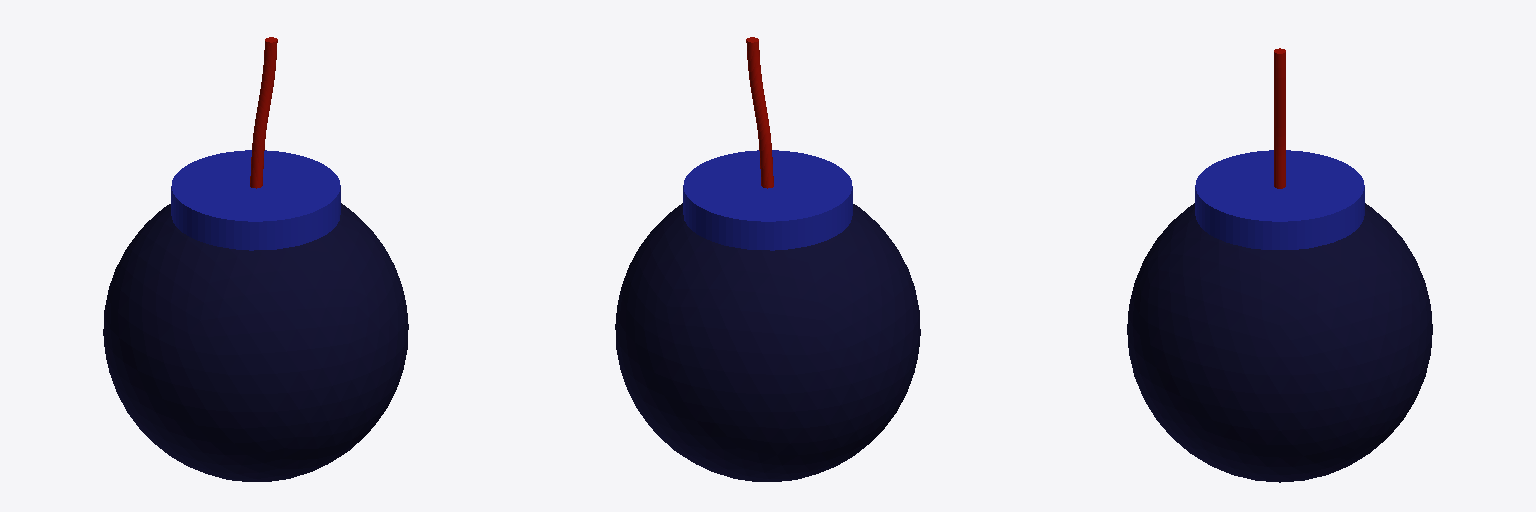
File: Bomb.obj
3 renders of one model, left to right at view 1: azimuth 30°, elevation 25°; view 2: azimuth 150°, elevation 25°; view 3: azimuth 270°, elevation 25°, orthographic.
Visible parts, largest first — view 1: Icosphere_Icosphere.003, Cylinder, Cylinder.001; view 2: Icosphere_Icosphere.003, Cylinder, Cylinder.001; view 3: Icosphere_Icosphere.003, Cylinder, Cylinder.001.
Boxes of the visible parts, box(x1,y1,x2,y2) form: Icosphere_Icosphere.003: box(103, 203, 408, 481); Cylinder: box(171, 150, 340, 250); Cylinder.001: box(250, 37, 277, 188); Icosphere_Icosphere.003: box(615, 203, 920, 481); Cylinder: box(683, 150, 852, 250); Cylinder.001: box(746, 37, 773, 188); Icosphere_Icosphere.003: box(1127, 203, 1432, 482); Cylinder: box(1195, 150, 1364, 249); Cylinder.001: box(1274, 48, 1285, 188).
Size of the model in its own units: 2 by 3.06 by 2.